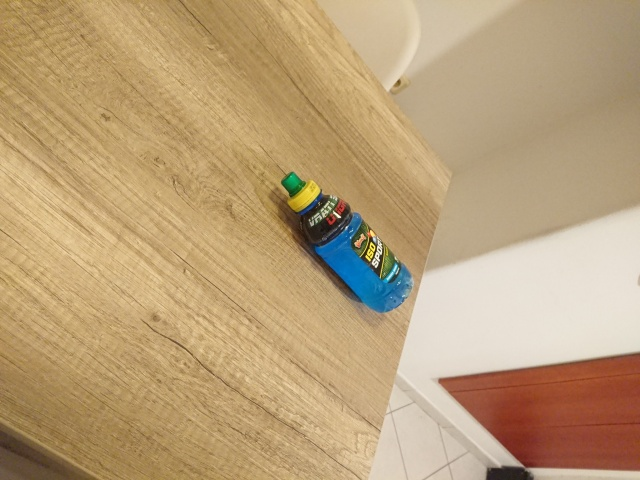Vindi Iso Sport Forest Strawberries 500mL: (280, 170, 415, 315)
